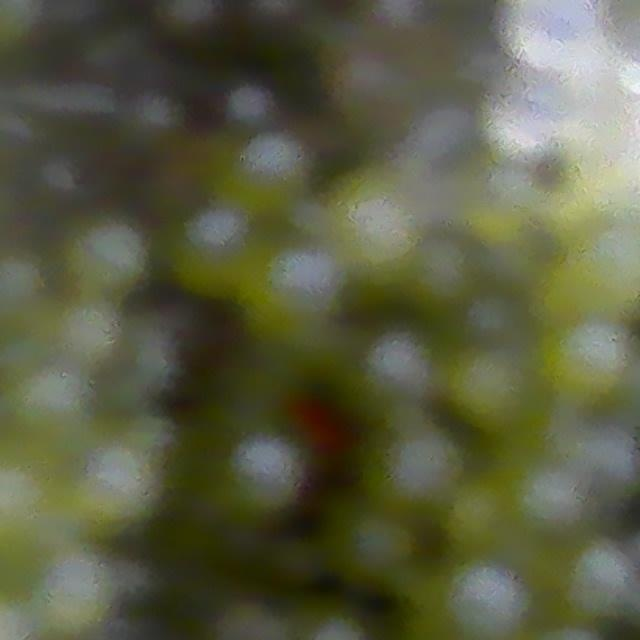SeaGrape: (330, 176, 423, 277), (74, 433, 168, 530), (30, 544, 123, 640), (536, 318, 633, 409), (369, 424, 465, 514), (244, 243, 338, 327), (446, 346, 536, 433), (437, 558, 531, 640), (497, 0, 606, 70), (334, 506, 420, 588), (506, 457, 589, 537), (560, 538, 640, 621), (70, 217, 148, 294), (483, 87, 562, 162), (359, 328, 435, 403), (408, 234, 480, 310), (10, 363, 86, 433), (444, 480, 512, 552), (182, 206, 247, 274), (56, 299, 122, 365), (242, 131, 307, 192), (238, 0, 307, 50), (157, 0, 226, 48)
